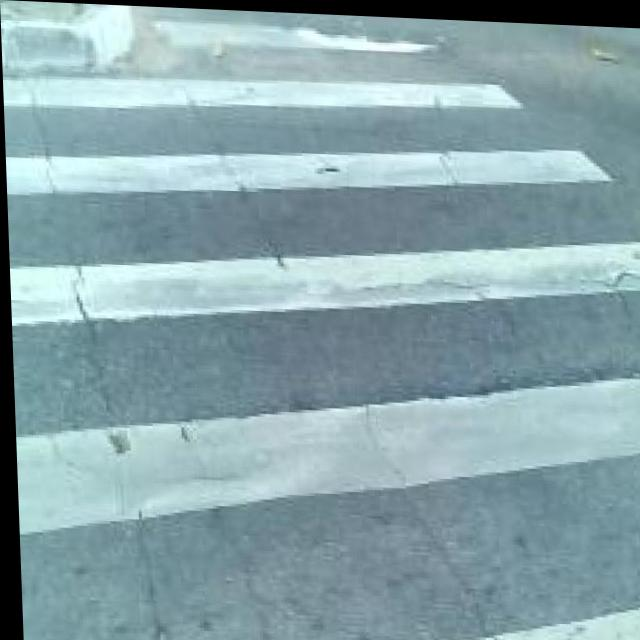zebra: (23, 59, 514, 640)
